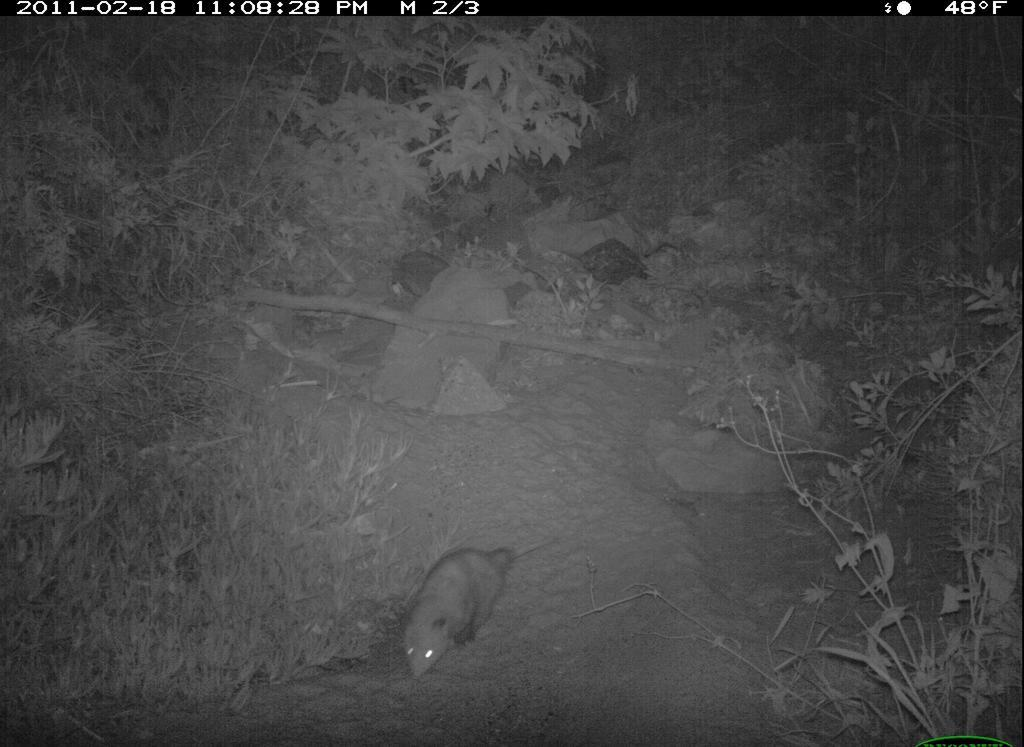opossum: (393, 514, 523, 685)
